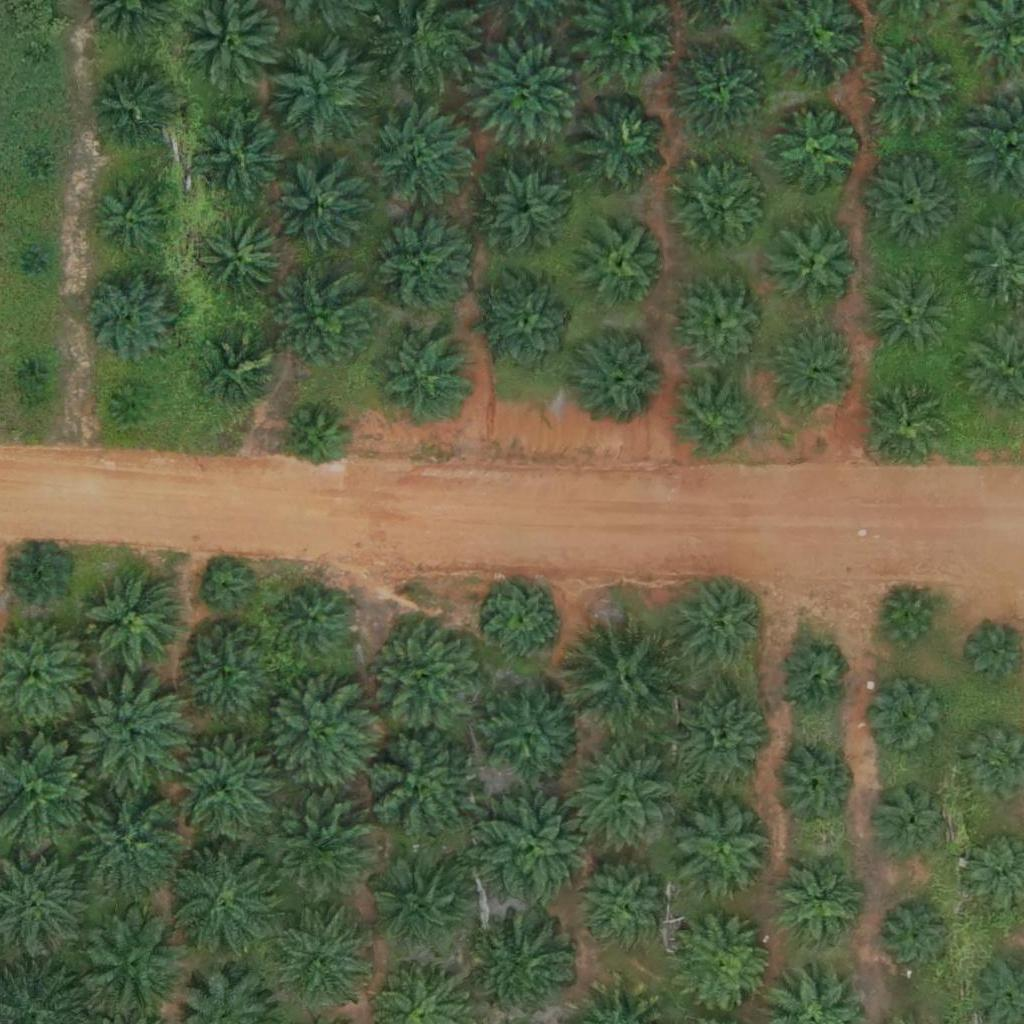Kelapa_Sawit: (60, 777, 185, 903), (165, 839, 290, 965), (365, 612, 490, 738), (353, 723, 478, 849), (473, 787, 598, 913), (564, 613, 689, 739), (560, 736, 685, 862), (161, 731, 286, 856), (467, 44, 580, 158), (74, 677, 187, 790), (75, 909, 188, 1022), (74, 262, 186, 375), (263, 680, 375, 793), (264, 792, 376, 905), (863, 38, 963, 139), (861, 154, 961, 255), (672, 38, 772, 139), (271, 43, 371, 144), (188, 104, 288, 205), (275, 271, 375, 372), (369, 216, 469, 317), (374, 326, 474, 427), (85, 571, 185, 672), (174, 625, 274, 726), (373, 859, 473, 960), (481, 915, 581, 1016), (569, 94, 669, 194), (369, 108, 469, 208), (480, 275, 580, 375), (572, 326, 672, 426), (674, 272, 774, 372), (479, 684, 579, 784), (669, 576, 769, 676), (673, 692, 773, 792), (673, 799, 773, 899), (675, 916, 775, 1016), (92, 173, 180, 262), (771, 109, 859, 197), (477, 167, 565, 255), (89, 65, 177, 153), (198, 217, 286, 305), (771, 222, 859, 310), (773, 328, 861, 416), (869, 268, 957, 356), (866, 378, 954, 466), (276, 915, 364, 1003), (775, 862, 863, 950), (770, 741, 857, 829), (677, 168, 764, 256), (278, 169, 365, 257), (580, 218, 667, 306), (674, 375, 761, 463), (581, 866, 668, 954), (874, 780, 949, 856), (879, 899, 954, 975), (486, 581, 561, 657), (774, 641, 849, 717), (872, 683, 947, 758), (205, 335, 280, 410), (277, 584, 352, 659), (284, 408, 347, 471), (7, 546, 70, 609), (877, 589, 939, 652), (202, 563, 252, 613), (114, 384, 152, 422), (30, 44, 55, 69), (24, 160, 49, 185), (25, 249, 50, 274), (18, 359, 43, 384)
